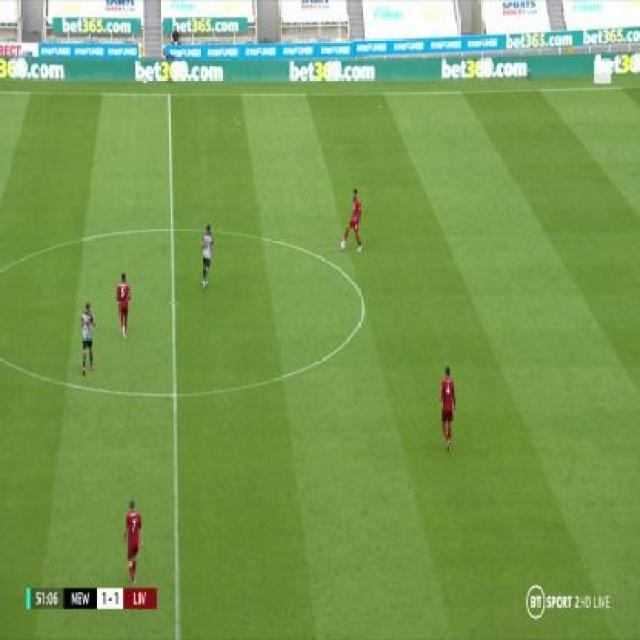ball: (340, 238, 346, 251)
player: (122, 497, 145, 590), (437, 363, 459, 452), (77, 298, 99, 377), (339, 186, 364, 255), (197, 219, 217, 293), (116, 271, 133, 339)
